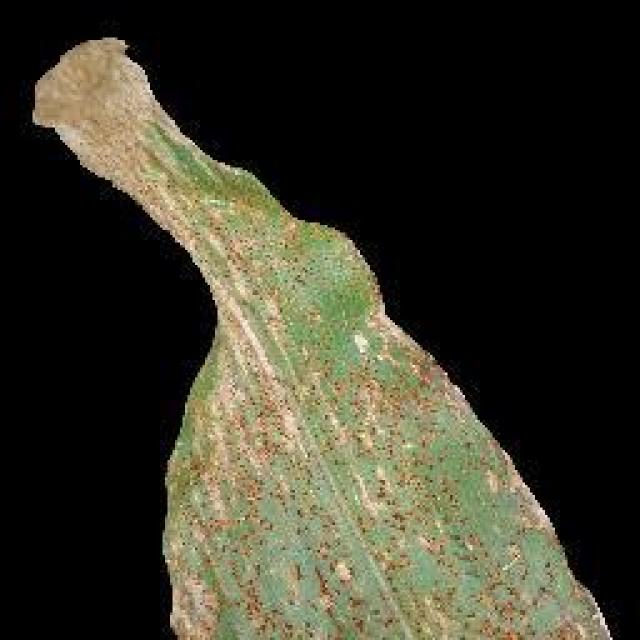Corn Common Rust: (157, 193, 500, 630)
